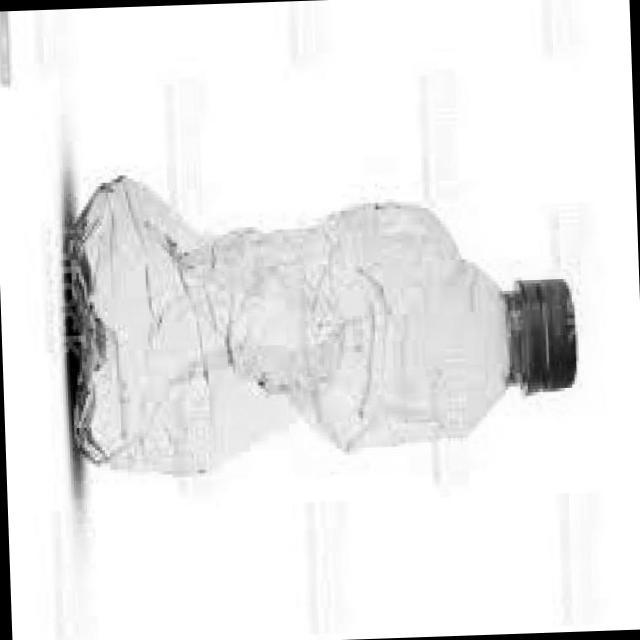defected: (59, 152, 604, 498)
